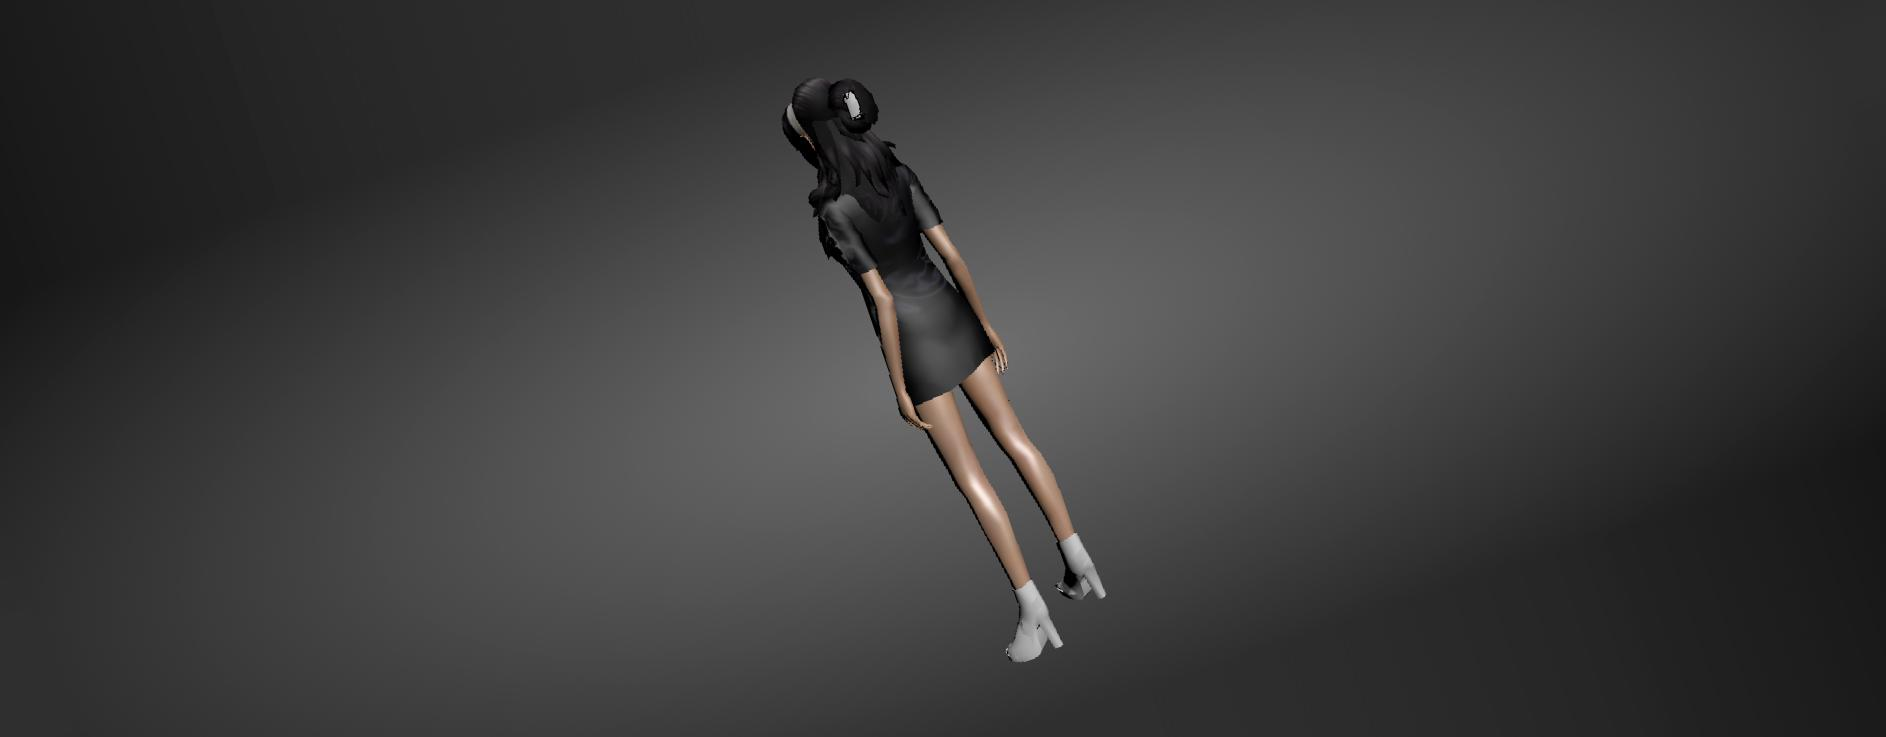clip: (825, 93, 872, 124)
